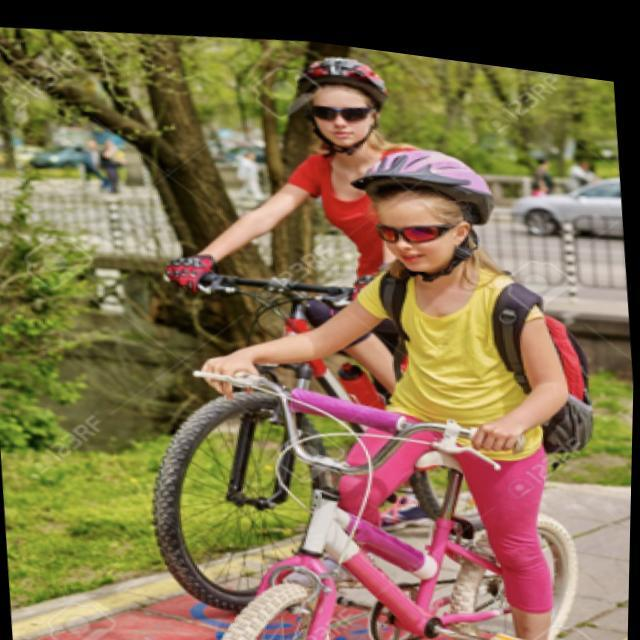Helmet: (355, 142, 501, 274), (294, 52, 390, 158)
